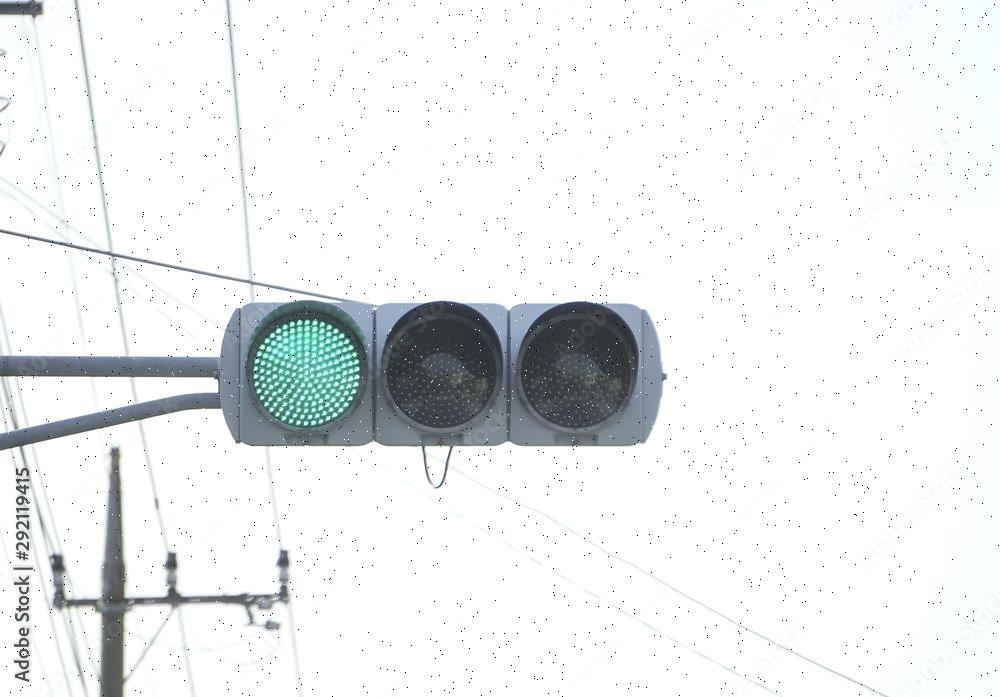cars: (232, 303, 656, 447)
